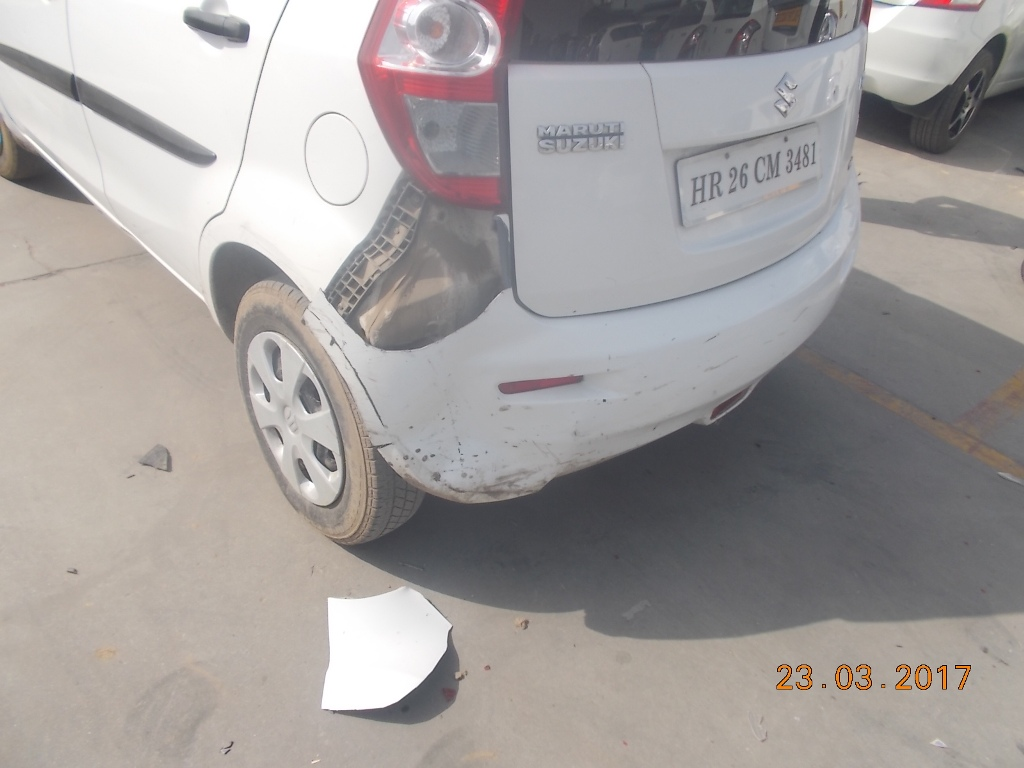Scratch_or_spot: (419, 445, 540, 504)
Tear: (339, 284, 512, 371)
